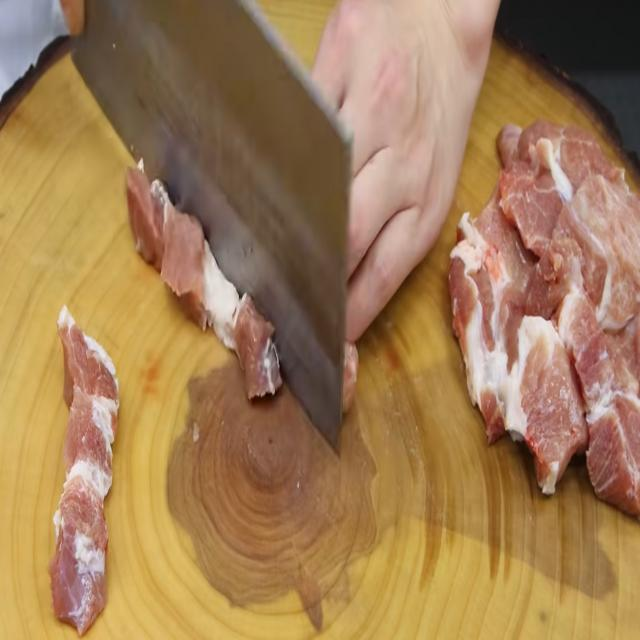pork belly: (34, 283, 133, 640), (495, 140, 637, 304), (566, 285, 640, 516), (524, 305, 587, 517), (454, 220, 509, 441)
